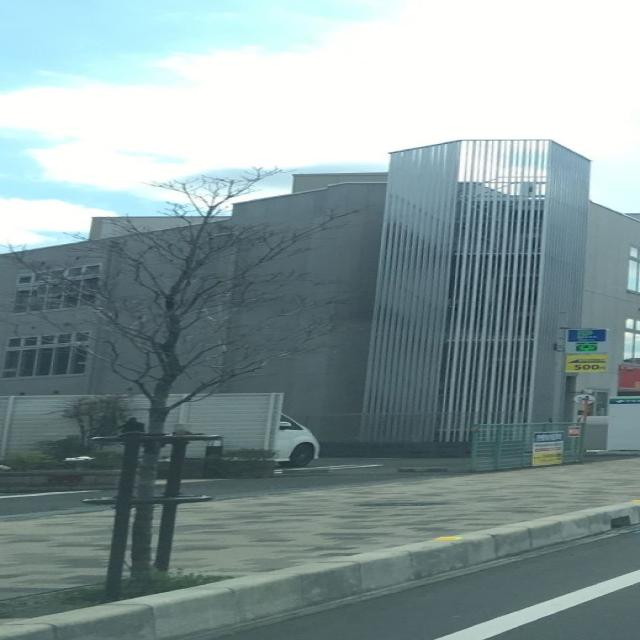dogwood: (0, 165, 380, 583)
